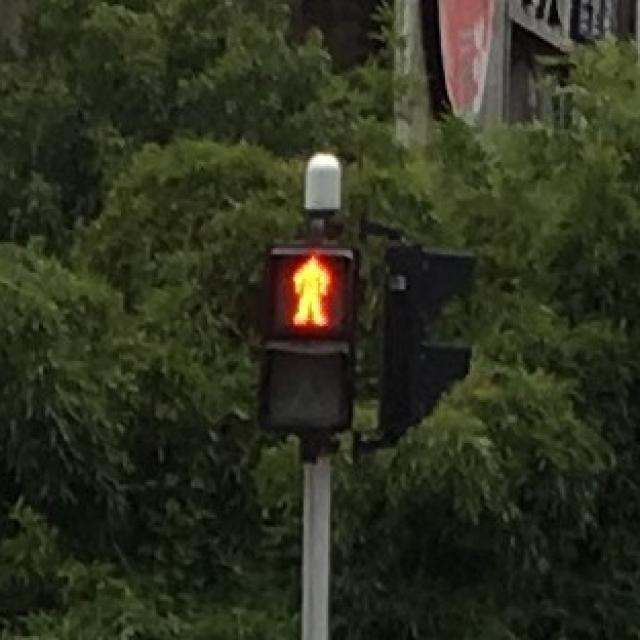red-crossing: (274, 250, 344, 336)
